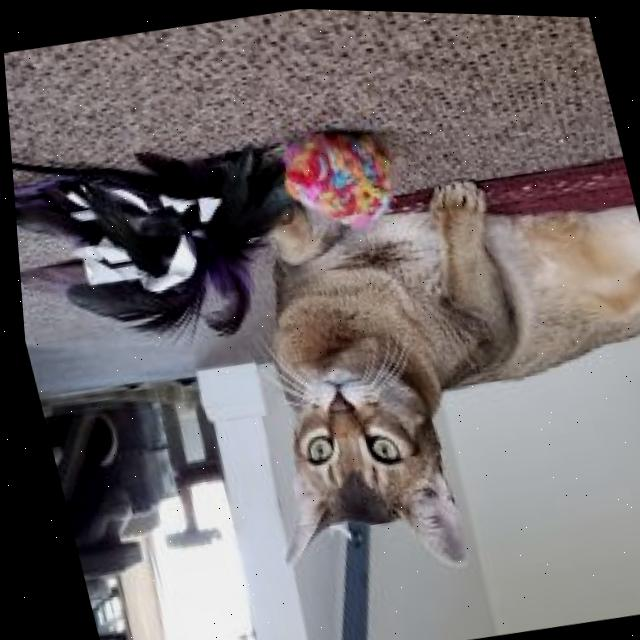Abyssinian: (178, 128, 640, 604)
